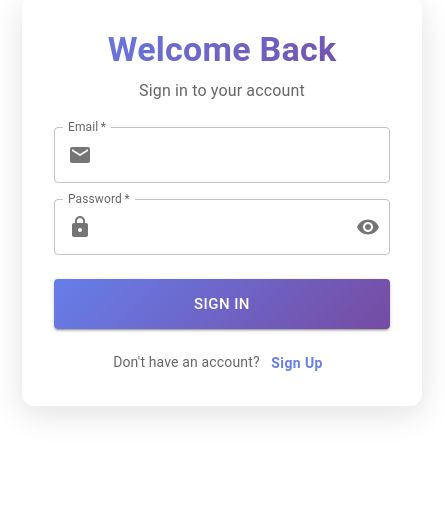
Scenario: LoginForm › displays error message on login failure
The width and height of the screenshot is (445, 509).
Type "test@example.com" into the field labelled "Email *".
click(245, 155); type("test@example.com")  # box [100, 127, 390, 183]
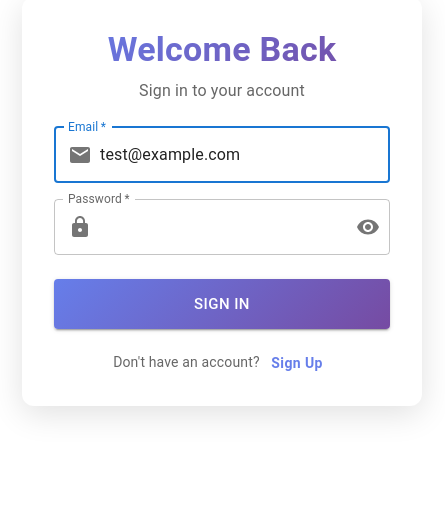
Type "wrongpassword" into the password field labelled "Password *".
click(220, 227); type("wrongpassword")  # box [100, 199, 340, 255]
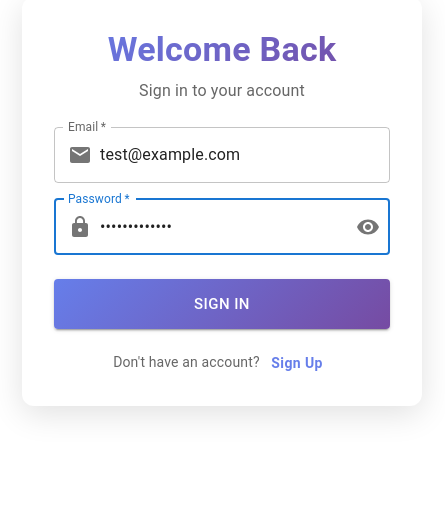
Click the button "Sign In".
click(222, 304)  # box [54, 279, 390, 329]
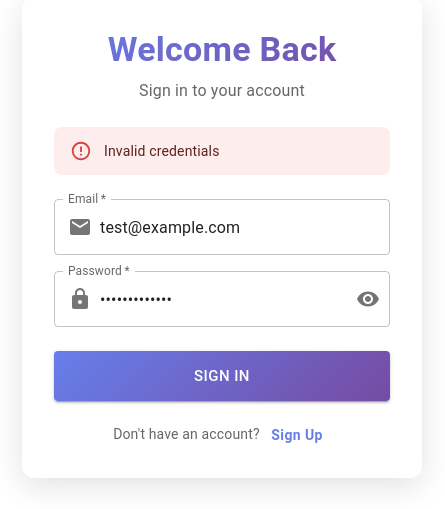
Check: the text "Invalid credentials" is shown, box [104, 143, 220, 159]
